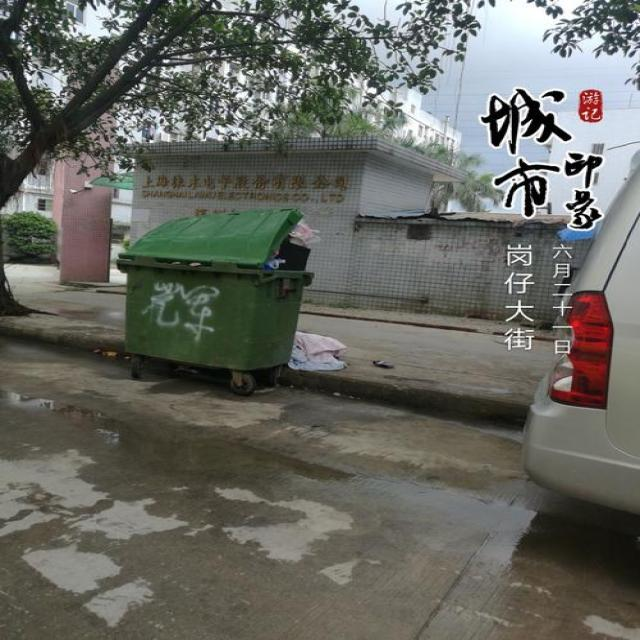garbage: (287, 331, 347, 370)
overflow: (119, 208, 315, 368)
